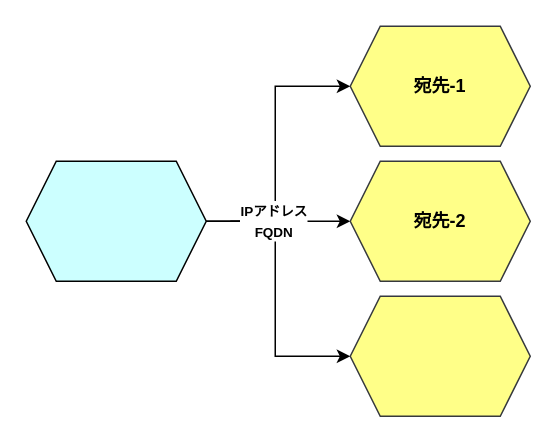
Image size: 557x443. Some labels were removed from this diagram. Here are the shapes that lost their labels. From the top down, the centre of each, then its label:
the point at 115,220: 送信元
the point at 439,355: 宛先-3
